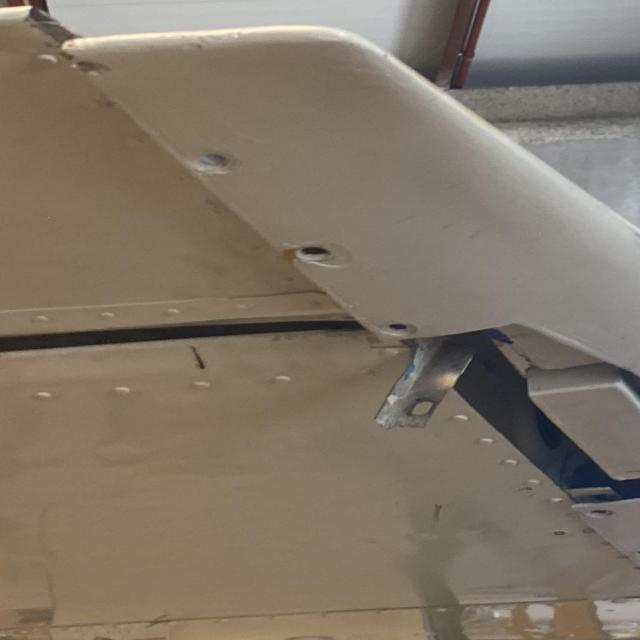Missing-head: (290, 243, 350, 269), (189, 150, 235, 175), (385, 322, 414, 335), (584, 509, 614, 519), (634, 550, 640, 560)
Paint-off: (164, 28, 262, 48), (260, 327, 378, 342), (71, 56, 110, 80)
